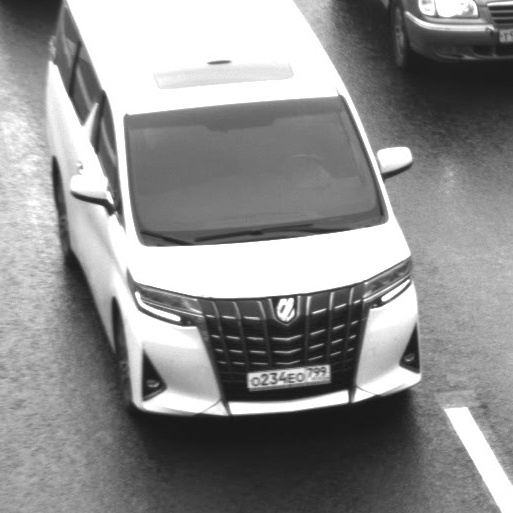plate: (238, 353, 337, 396)
